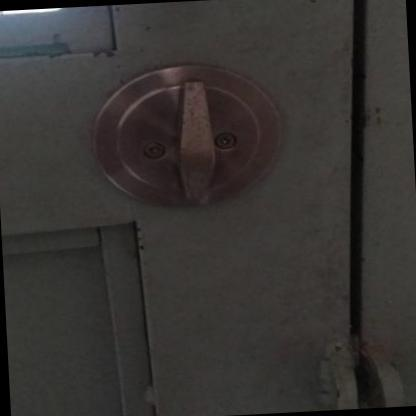unlock: (74, 47, 380, 227)
